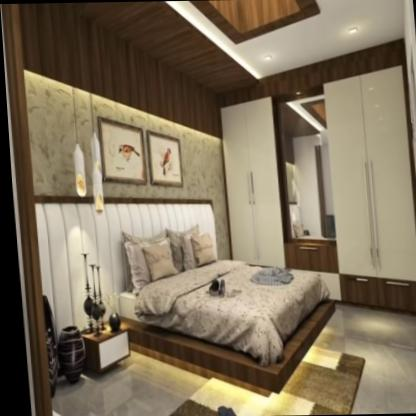Bed: (112, 220, 329, 364)
Closet: (317, 64, 416, 318), (210, 90, 283, 264)
Frame: (95, 112, 146, 188), (143, 128, 182, 190)
Lamp: (59, 30, 88, 204), (79, 21, 104, 217)
Nightstand: (71, 321, 128, 381)
